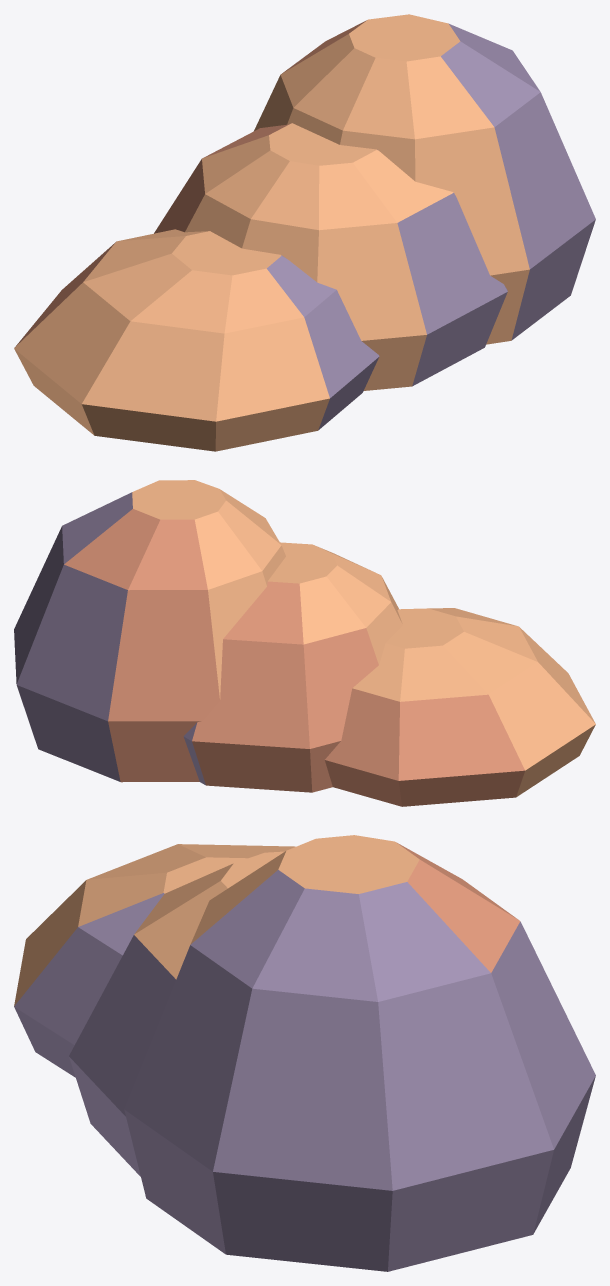
Rendered from boulder.glb.
The picture shows the model from 3 angles, top to bottom: view 1: azimuth 30°, elevation 25°; view 2: azimuth 150°, elevation 25°; view 3: azimuth 270°, elevation 25°; orthographic projection. The views are drawn at different scales.
Visible parts, largest first — view 1: boulder_0, boulder_2, boulder_1; view 2: boulder_2, boulder_0, boulder_1; view 3: boulder_2, boulder_0, boulder_1.
Boxes of the visible parts, box(x1,y1,x2,y2) form: boulder_0: box(14, 229, 379, 451); boulder_2: box(254, 14, 595, 344); boulder_1: box(154, 123, 507, 390); boulder_2: box(14, 480, 285, 782); boulder_0: box(325, 608, 595, 806); boulder_1: box(183, 542, 402, 792); boulder_2: box(124, 835, 595, 1271); boulder_0: box(14, 844, 295, 1077); boulder_1: box(69, 851, 284, 1176).
Size of the model in its own units: 2.84 by 1.2 by 1.99.
